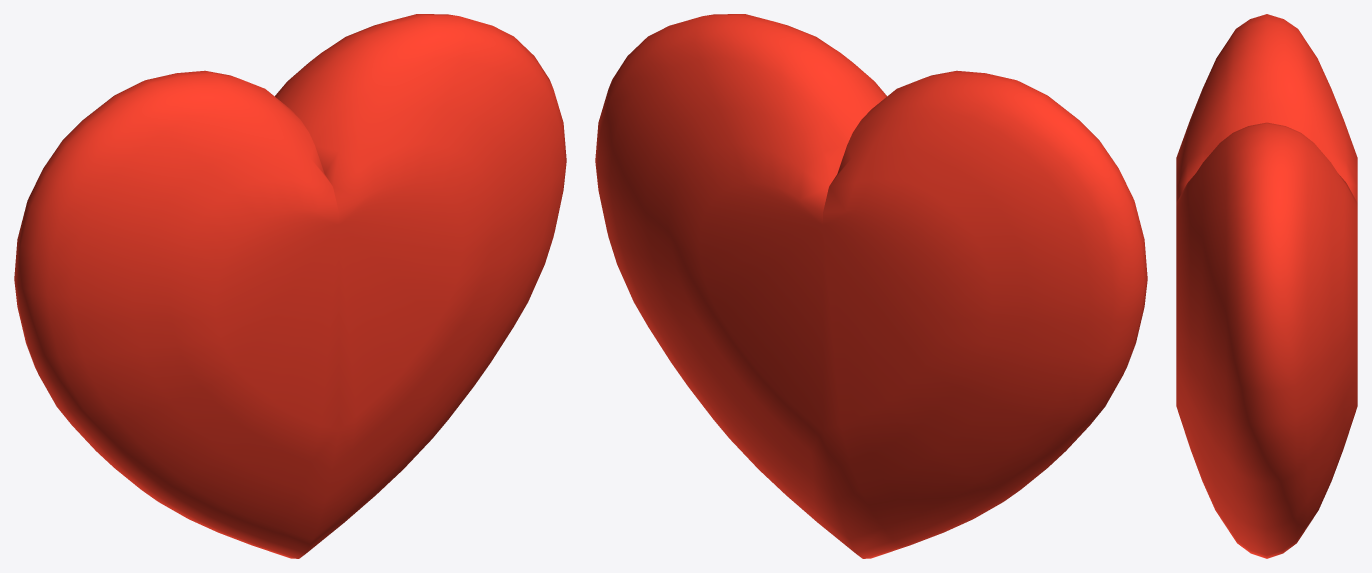
The model's file is Icon Heart B.fbx.
The picture shows the model from 3 angles, left to right: view 1: azimuth 30°, elevation 25°; view 2: azimuth 150°, elevation 25°; view 3: azimuth 270°, elevation 25°; orthographic projection. The views are drawn at different scales.
Parts seen in each view (by area): view 1: Heart B; view 2: Heart B; view 3: Heart B.
Part boxes in pixels (<box>): Heart B: <box>14,14,566,558</box>; Heart B: <box>595,14,1147,558</box>; Heart B: <box>1176,14,1357,558</box>.
Size of the model in its own units: 75.49 by 67.31 by 23.26.
